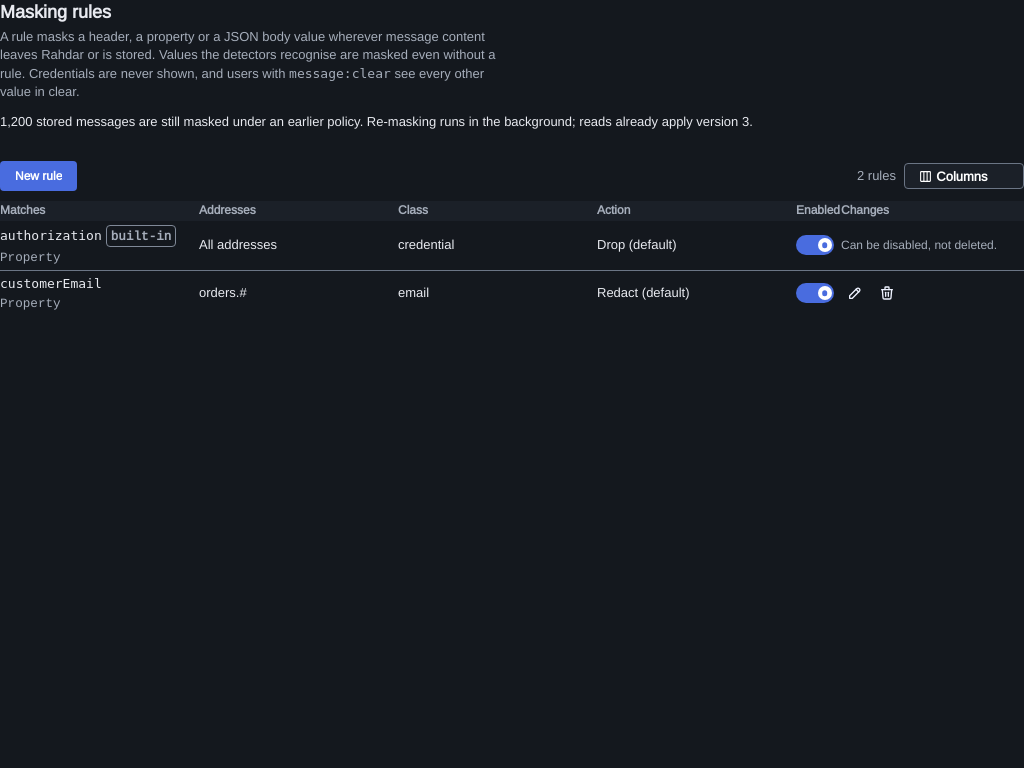
Test case: RulesPanel › says a rule was deleted, and why and what next when it was not
Click the button named "Delete the rule for customerEmail": (887, 293) [873,279,901,307]
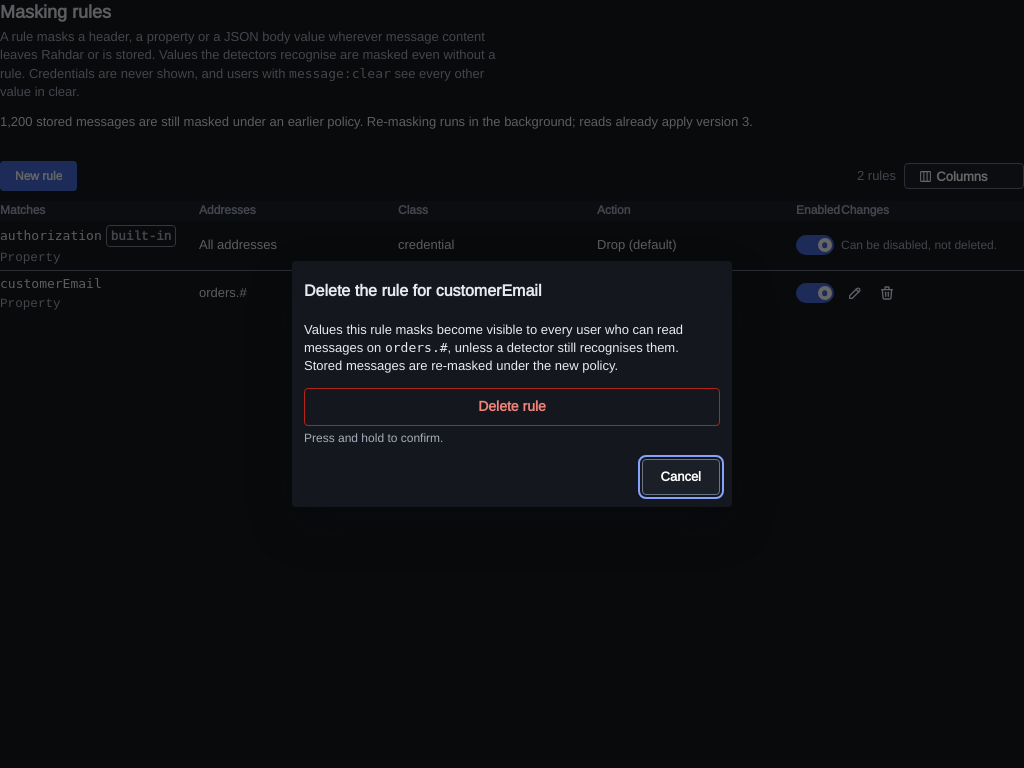
Press the mouse on the button "Delete rule Delete rule": (512, 407) [304,388,720,426]
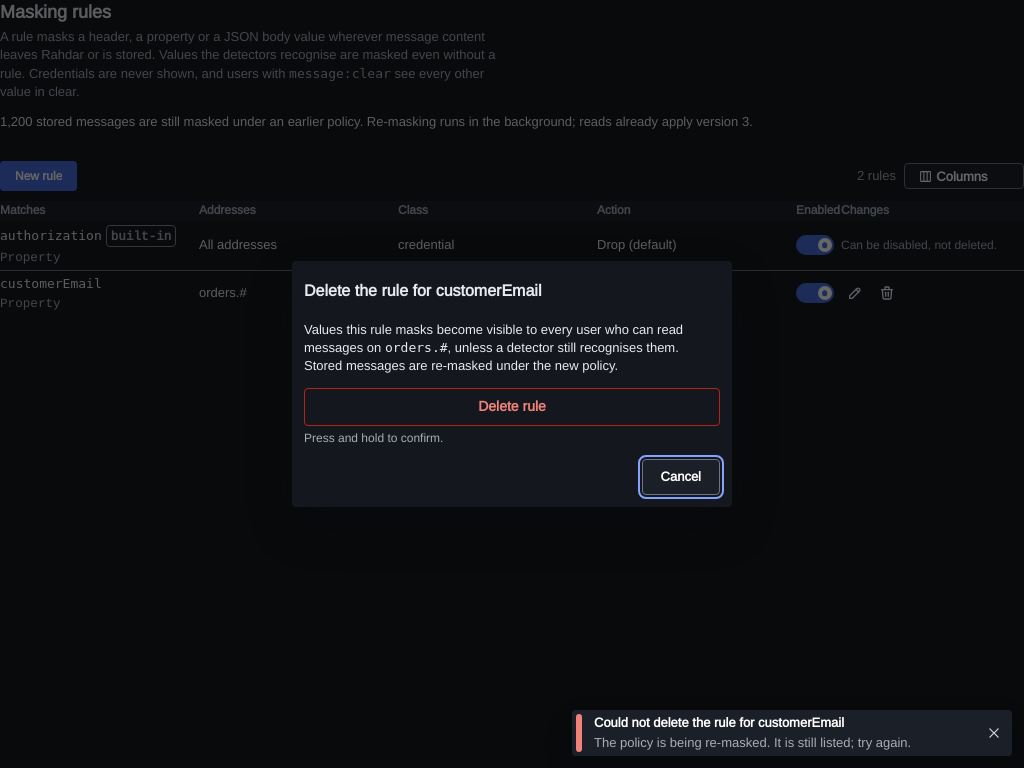
Expected: the dialog is shown, [292,261,732,507]
Expected: the message shows "Could not delete the rule for customerEmail", [594,714,844,731]
Expected: the message shows "The policy is being re-masked. It is still listed; try again.", [594,734,911,751]
Press the mouse on the button "Delete rule Delete rule": (512, 407) [304,388,720,426]
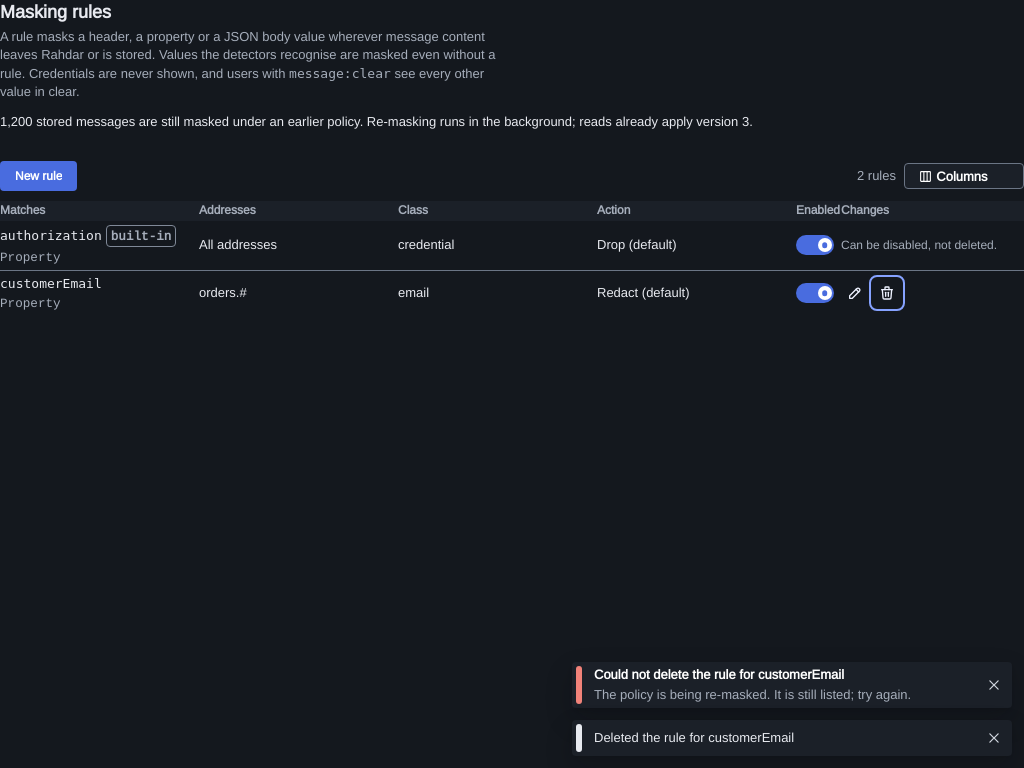
Expected: the text "Deleted the rule for customerEmail" is shown, [594,729,794,746]
